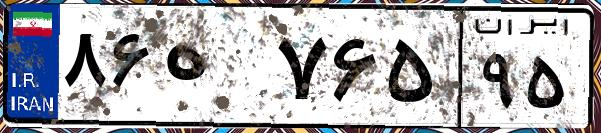5: (385, 28, 445, 110), (525, 38, 570, 115)
6: (330, 28, 385, 110), (110, 28, 158, 98)
7: (270, 28, 330, 110)
8: (57, 26, 110, 100)
9: (475, 38, 525, 113)
ه: (158, 20, 270, 120)
